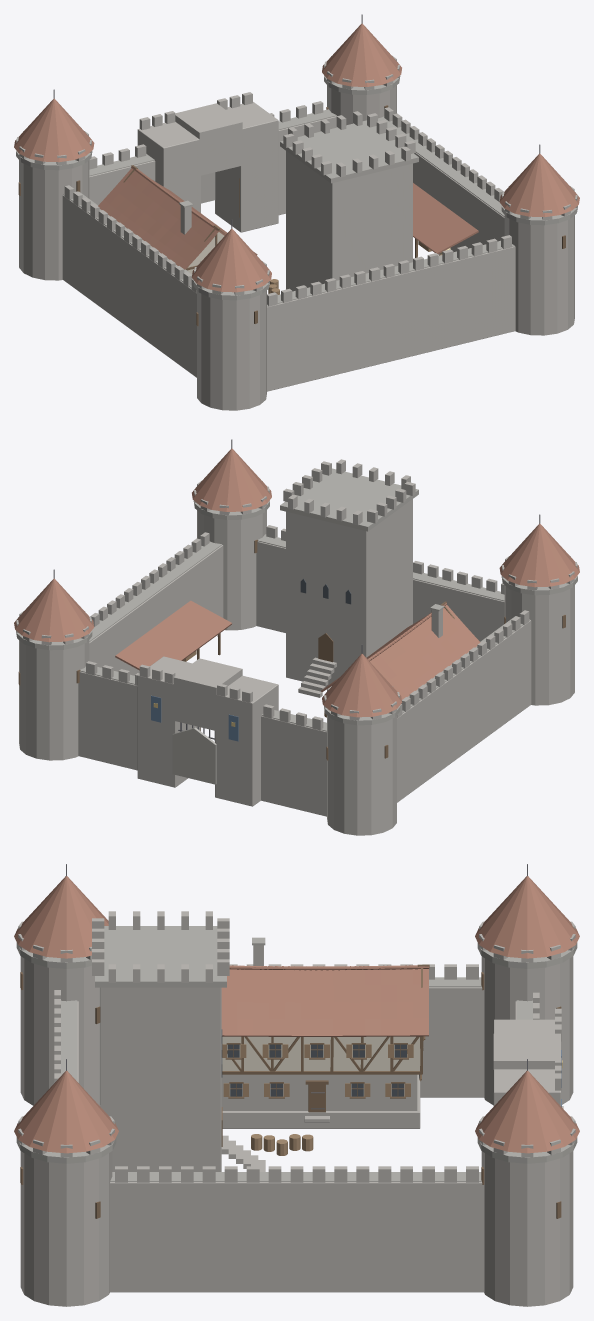
Rendered from castle.glb.
The picture shows the model from 3 angles, top to bottom: view 1: azimuth 30°, elevation 25°; view 2: azimuth 150°, elevation 25°; view 3: azimuth 270°, elevation 25°; orthographic projection. The views are drawn at different scales.
Visible parts, largest first — view 1: castle; view 2: castle; view 3: castle.
Boxes of the visible parts, x1,y1,x2,y2 form: castle: (14,14,579,410); castle: (14,439,579,835); castle: (14,864,579,1306).
Size of the model in its own units: 42 by 20.45 by 42.
